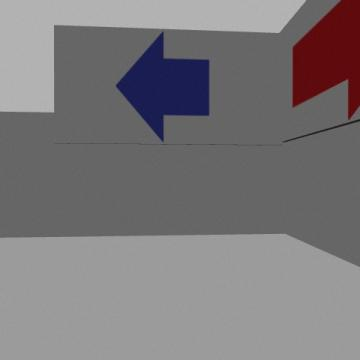blue_left: (116, 33, 209, 140)
